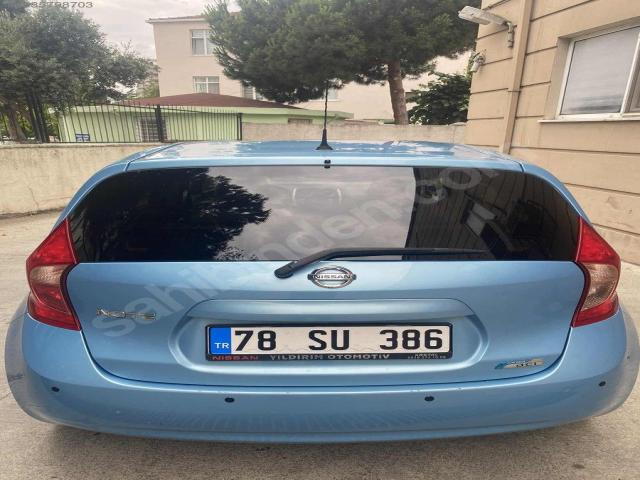plaka: (206, 322, 452, 362)
